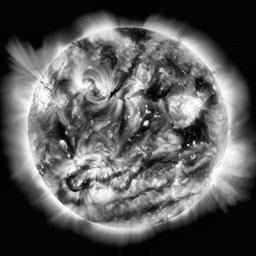solar flares: (169, 94, 198, 124), (65, 151, 94, 169), (87, 184, 115, 202), (94, 78, 114, 100), (37, 88, 53, 111), (70, 76, 86, 96)
sunspots: (175, 122, 207, 145), (53, 121, 69, 148), (198, 78, 214, 104), (146, 82, 165, 102), (141, 155, 173, 166), (101, 44, 116, 66), (125, 28, 146, 43), (167, 58, 182, 74), (144, 115, 152, 134), (59, 78, 67, 90)
